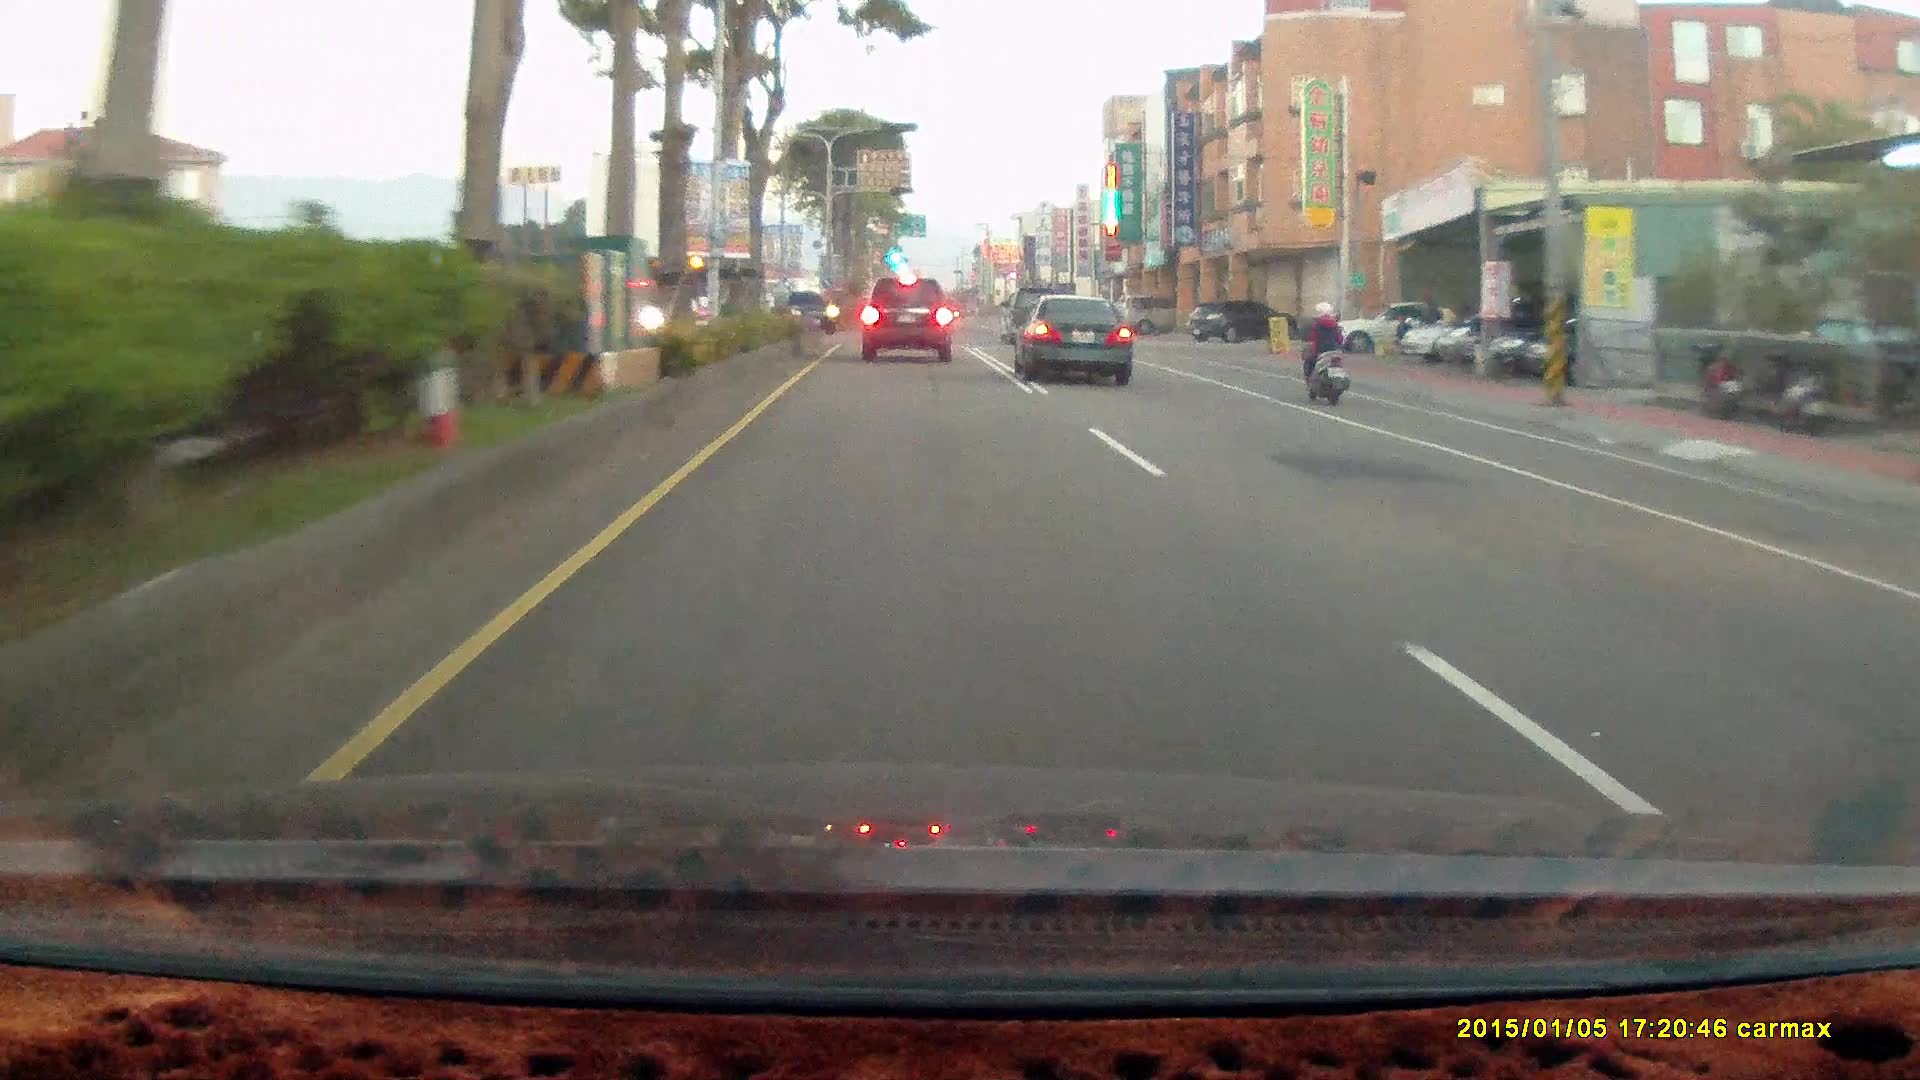pedestrian: (1420, 290, 1441, 347)
rider: (1286, 290, 1362, 415), (1292, 294, 1350, 402)
vehicle: (1521, 306, 1687, 383), (1485, 300, 1650, 376), (1021, 289, 1137, 385), (1009, 292, 1132, 383), (1439, 294, 1586, 368), (1312, 295, 1474, 357), (1314, 297, 1464, 354), (863, 269, 958, 358), (858, 277, 951, 364), (1401, 308, 1527, 364), (1184, 298, 1291, 343), (1190, 298, 1286, 345), (997, 284, 1062, 338), (1118, 291, 1200, 333), (774, 287, 837, 329)
